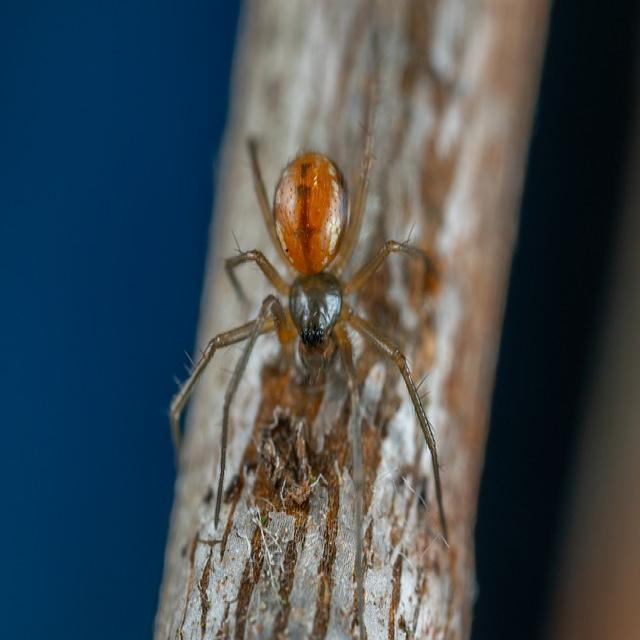spyder: (171, 124, 446, 537)
